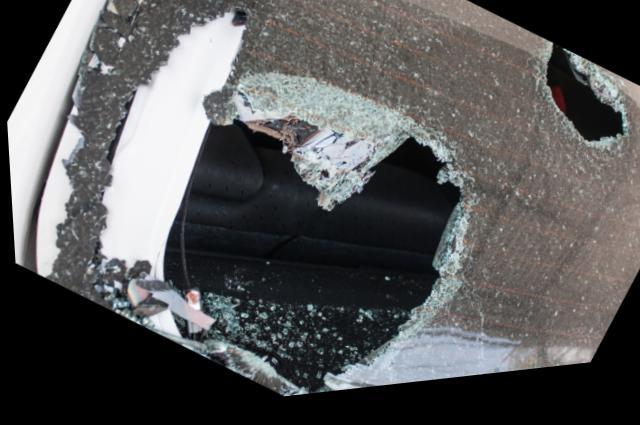glass shatter: (35, 0, 640, 402)
